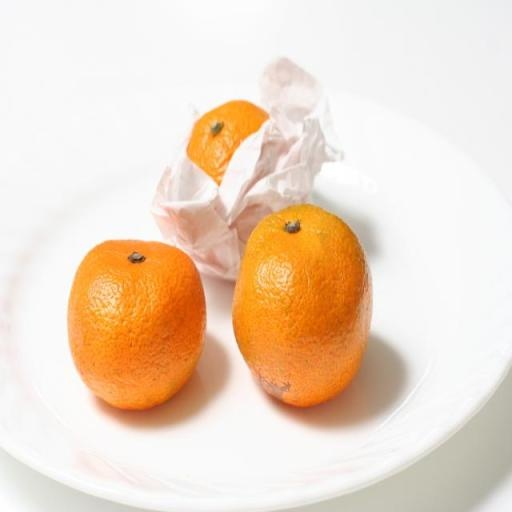fruit: (232, 205, 371, 406), (68, 240, 204, 409), (186, 100, 267, 184)
